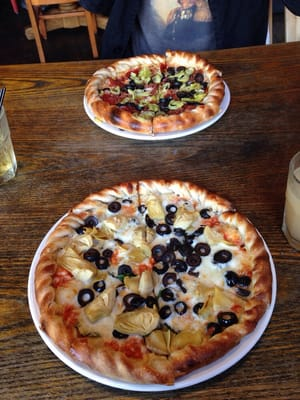pizza: (282, 149, 300, 253), (0, 85, 18, 183)
